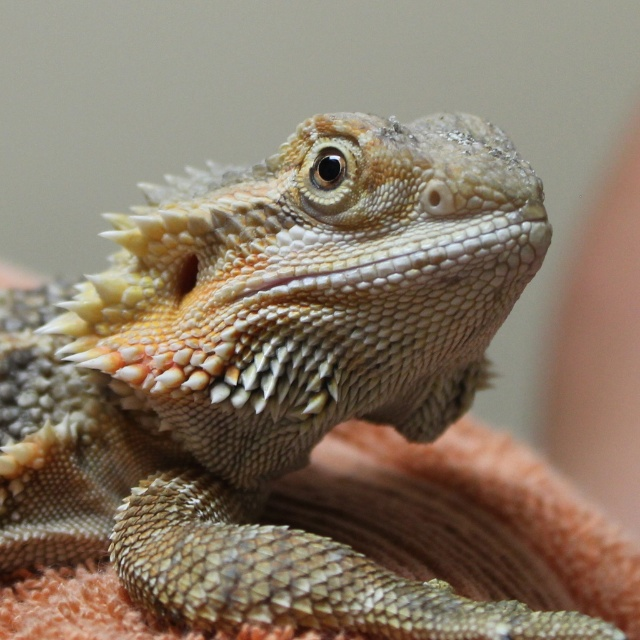Lizard: (16, 72, 594, 622)
